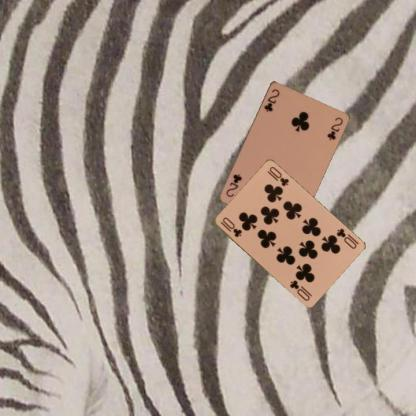10c: (218, 214, 243, 239), (333, 226, 358, 250)
2c: (261, 86, 281, 113)
